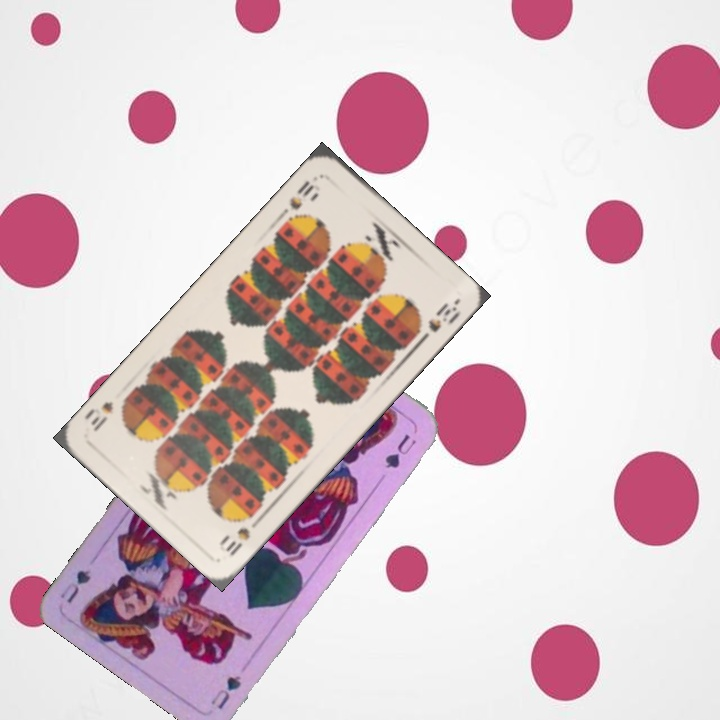GU: (206, 671, 244, 712)
S10: (215, 512, 265, 559), (285, 176, 317, 213)
